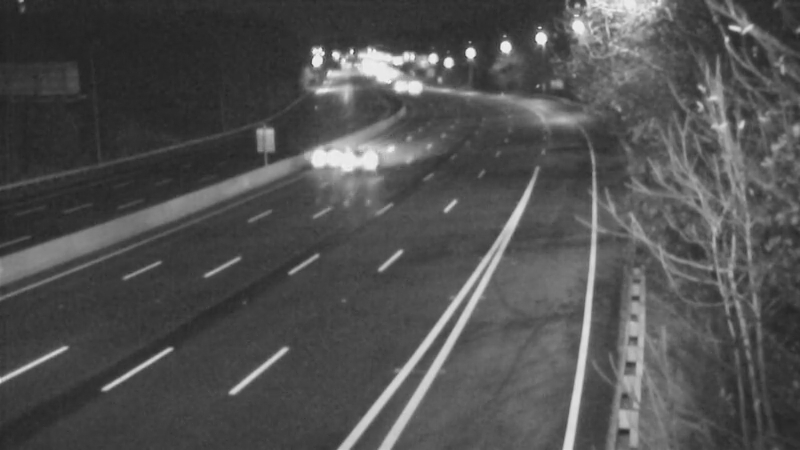vehicle: (315, 118, 395, 198), (291, 112, 371, 192), (372, 60, 422, 110), (387, 62, 437, 112)
